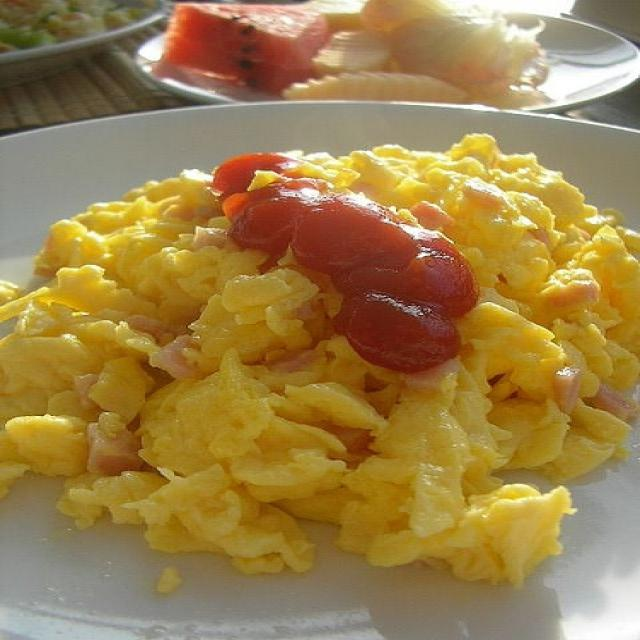鸡蛋料理: (24, 77, 607, 608)
